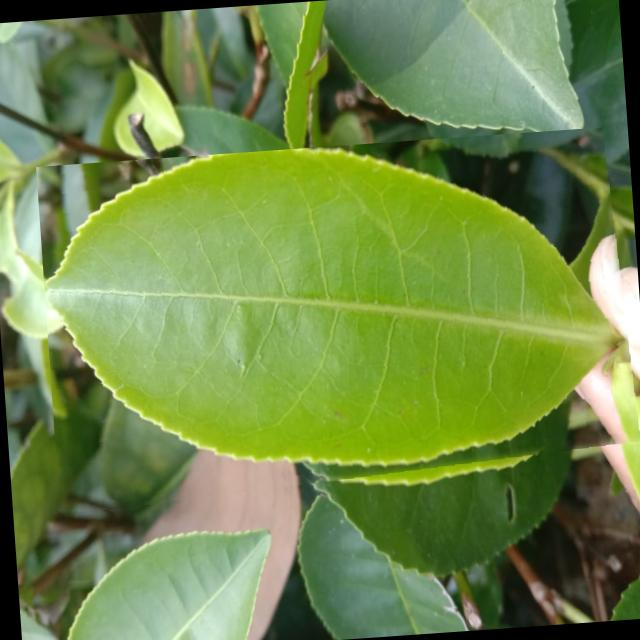Category B(2-4 days): (35, 124, 640, 514)
